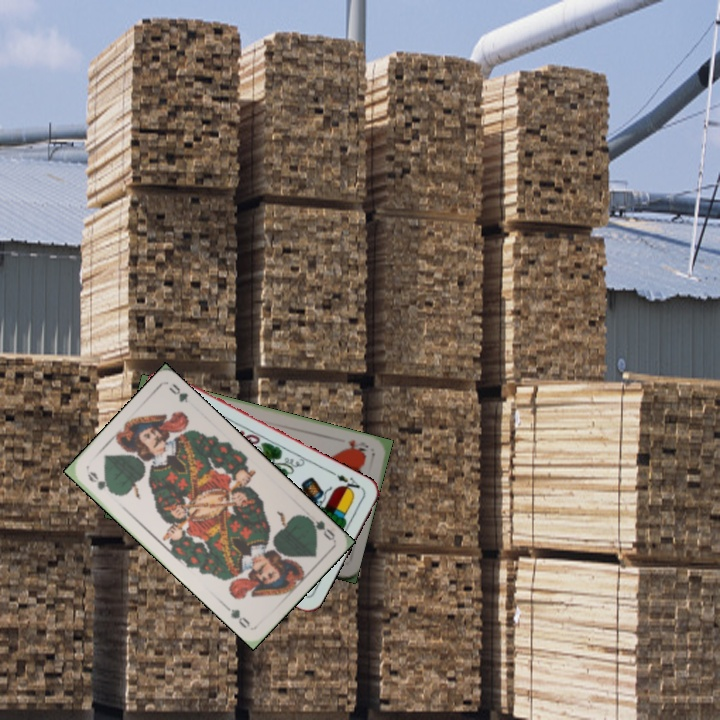EA: (328, 468, 365, 496)
GO: (301, 512, 337, 543), (83, 467, 118, 497)
HO: (341, 436, 371, 456)
